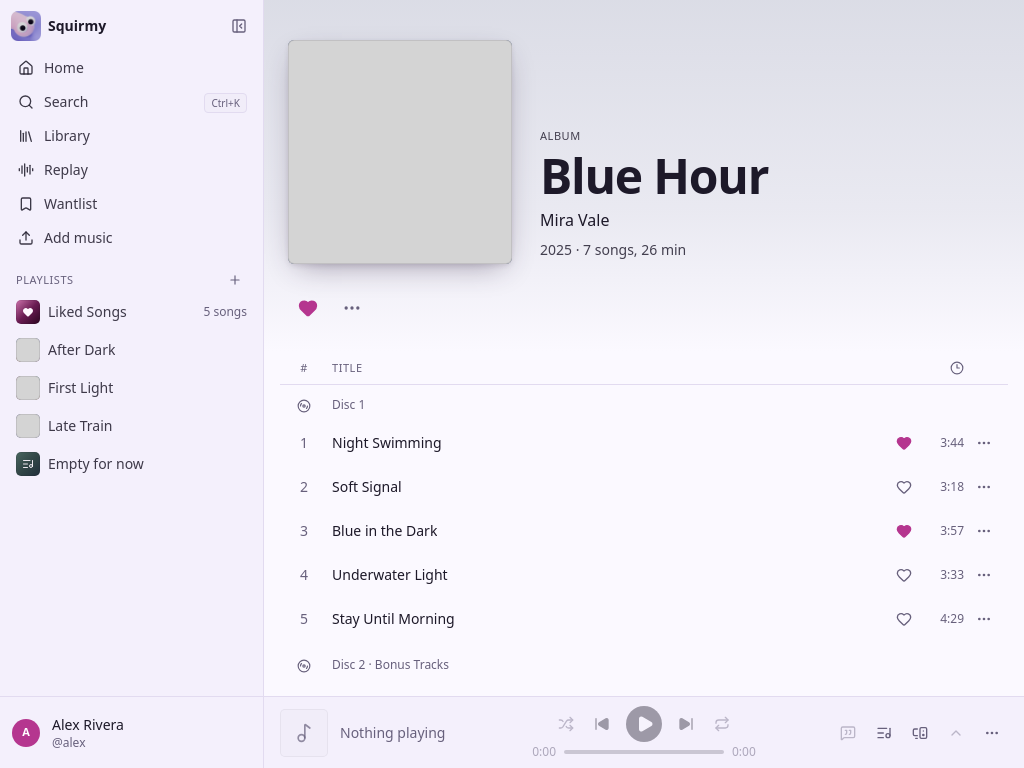
Test: PlayerProvider › says on the player that a radio is starting, and why one did not, with no second request meanwhile
Step 1. Click the button named "More options for Night Swimming" → (984, 443), box [968,427,1000,459]
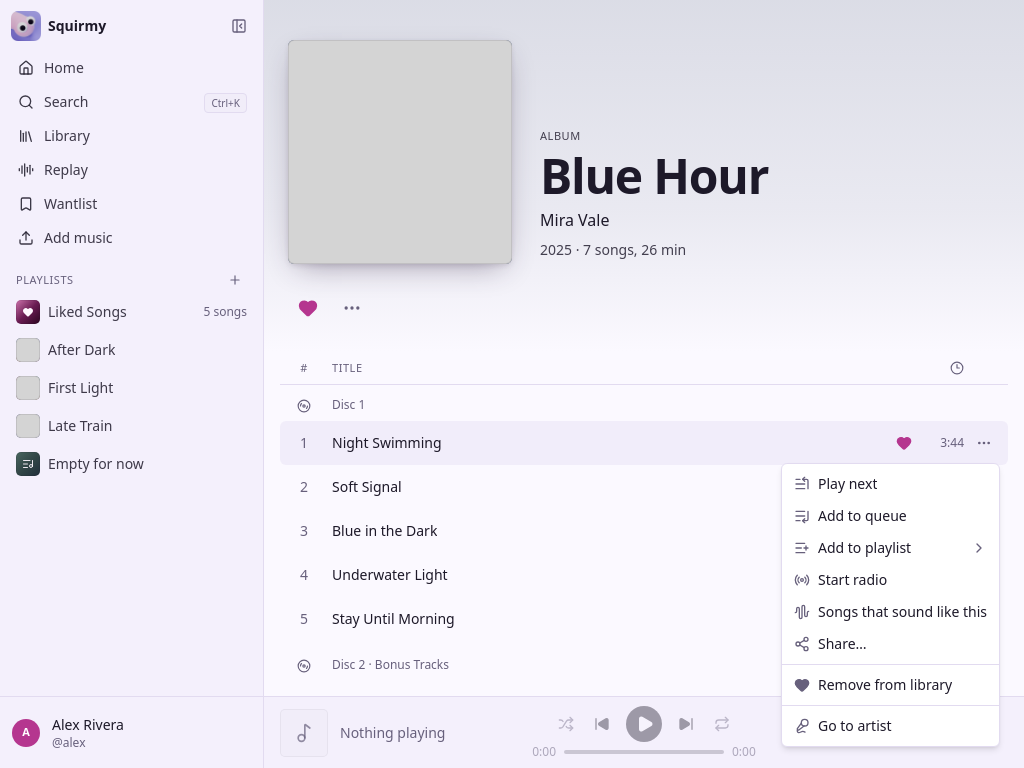
Step 2. Click the menu item "Start radio" → (841, 580), box [794,570,887,589]
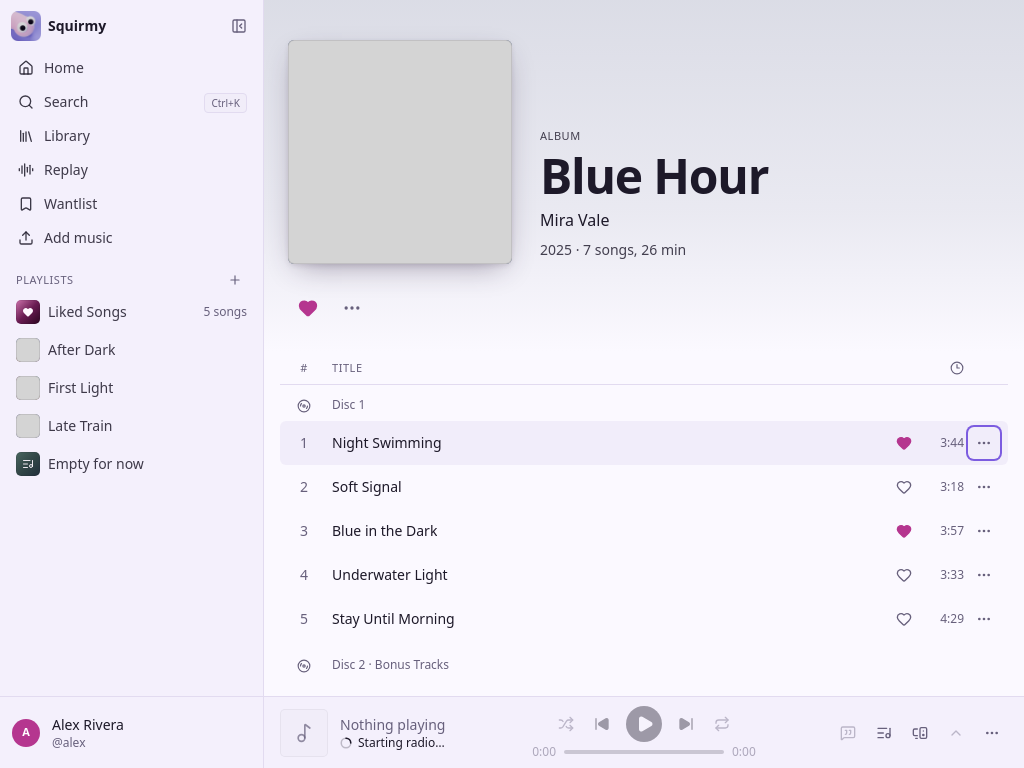
Step 3. Click the button named "More options for Night Swimming" → (984, 443), box [968,427,1000,459]
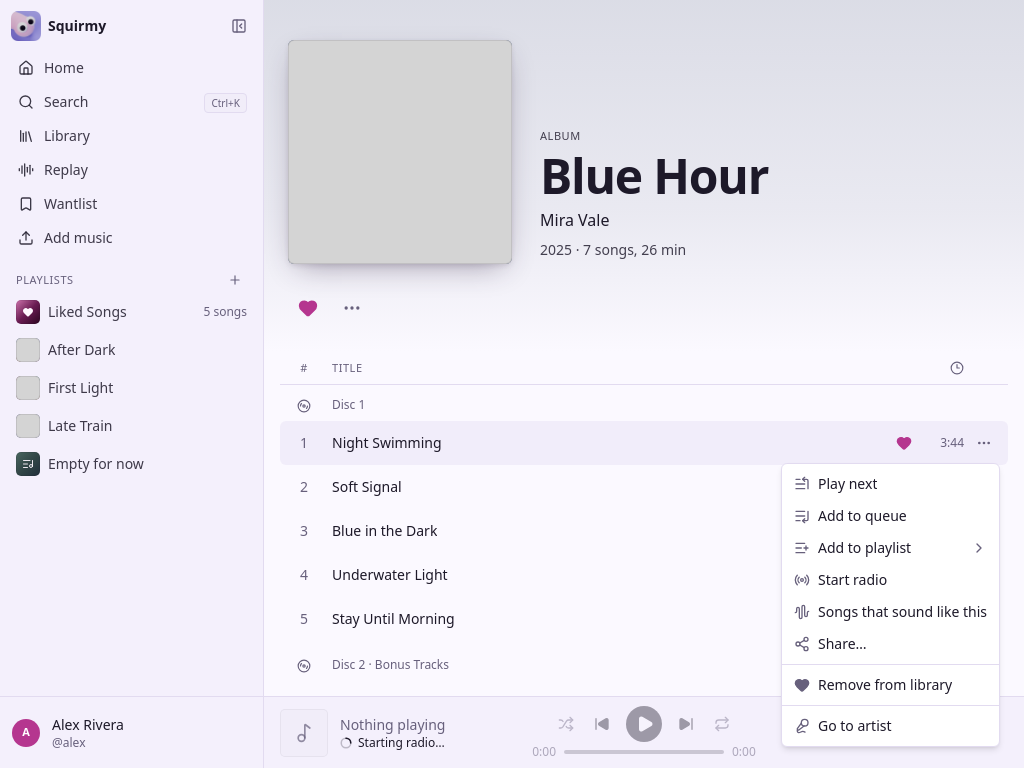
Step 4. Click the menu item "Start radio" → (841, 580), box [794,570,887,589]
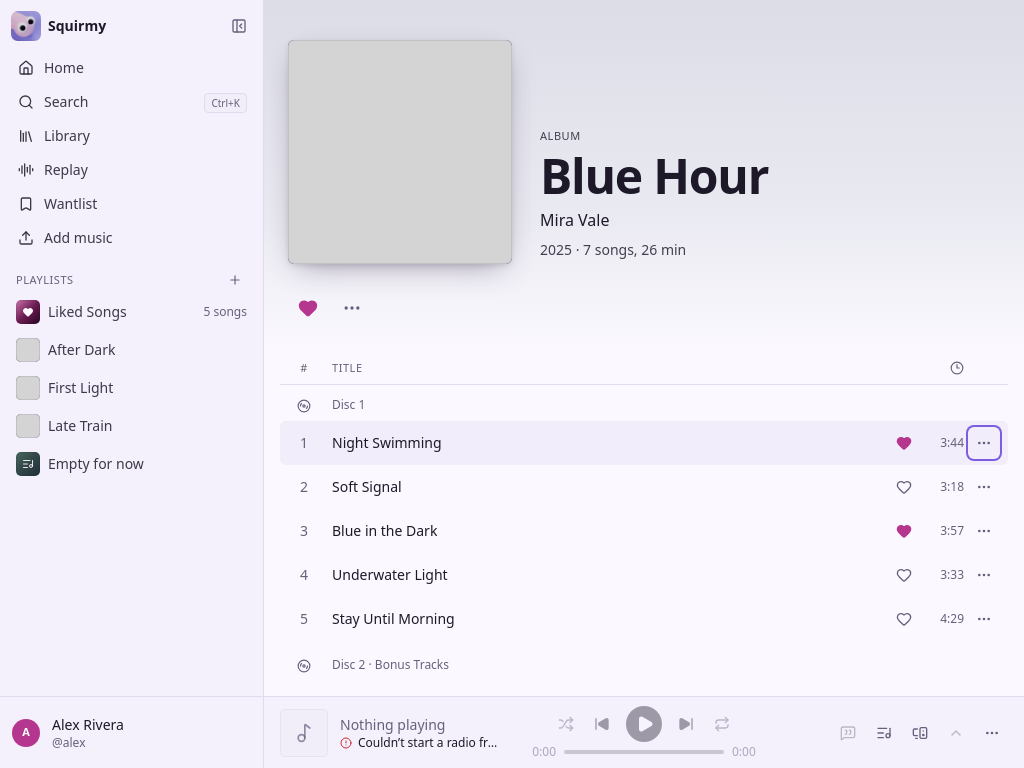
expect the text "Couldn’t start a radio from this song. Try again." is shown: met, box [358,734,504,750]
expect the text "Starting radio…" is gone: met
